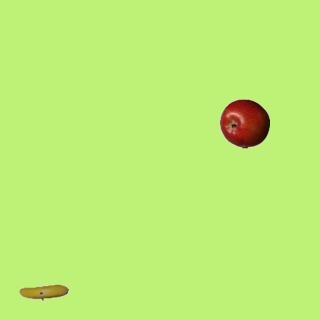Apple Braeburn: (219, 98, 269, 148)
Banana: (18, 267, 68, 317)
